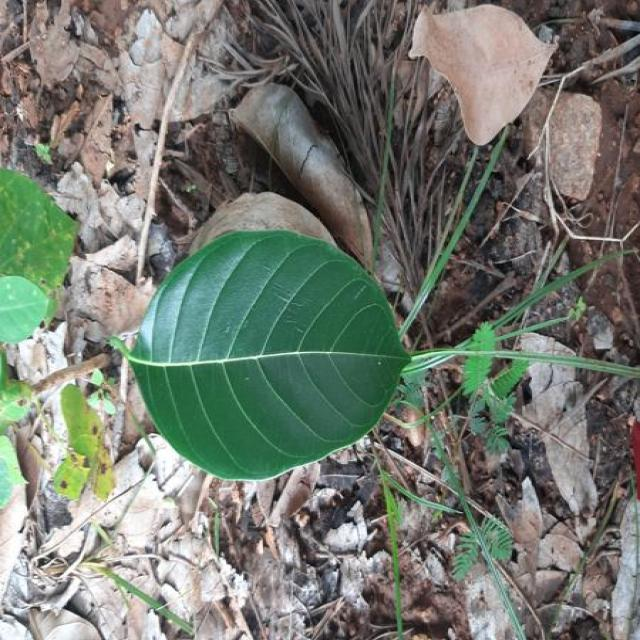Jackfruit: (123, 230, 410, 479)
